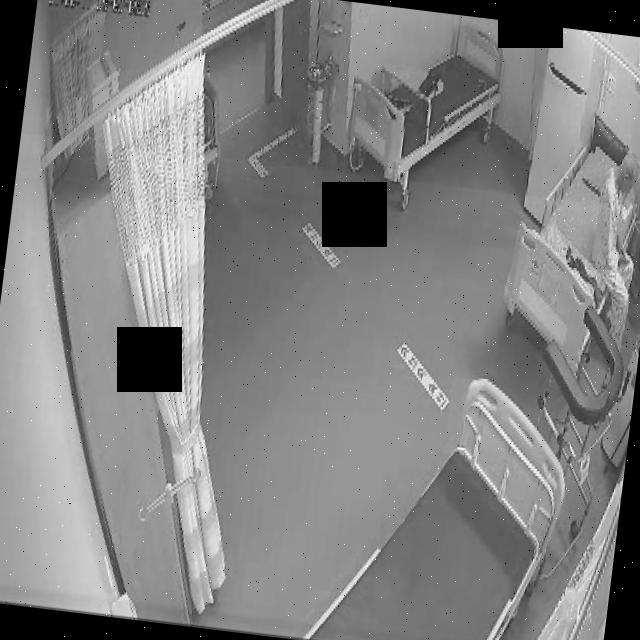bed: (303, 361, 576, 640), (495, 118, 640, 362), (341, 8, 510, 194)
patient: (576, 143, 640, 353)
sit: (576, 143, 640, 347)
